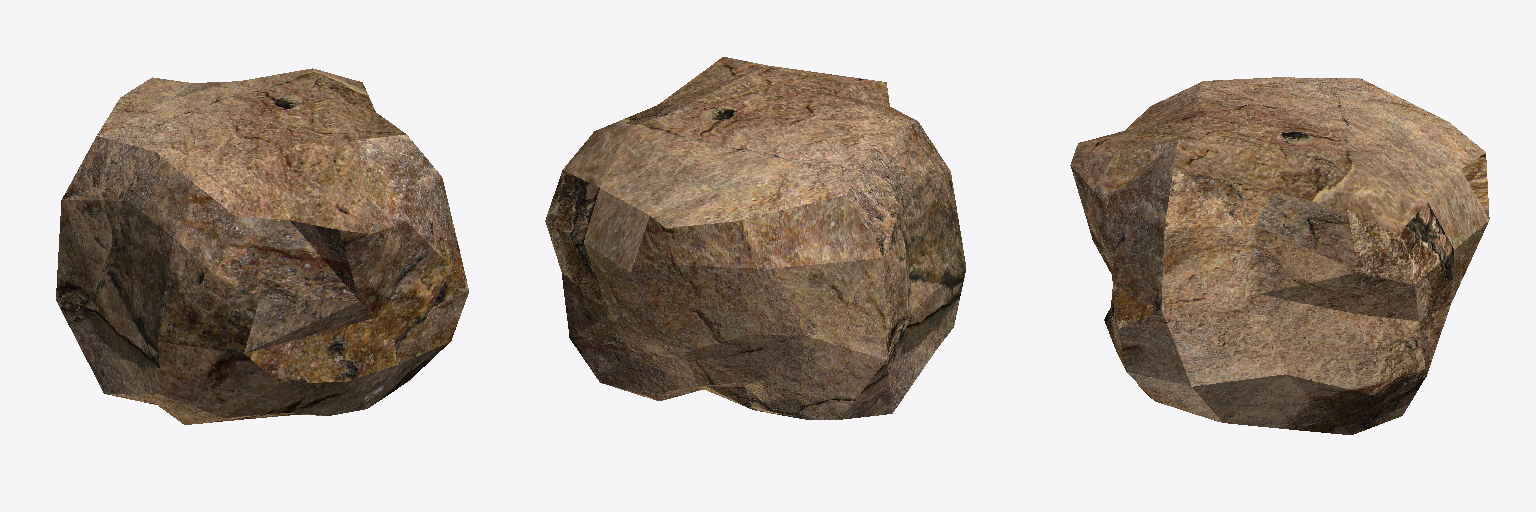
3 renders of one model, left to right at view 1: azimuth 30°, elevation 25°; view 2: azimuth 150°, elevation 25°; view 3: azimuth 270°, elevation 25°, orthographic.
Parts seen in each view (by area): view 1: Cube.002; view 2: Cube.002; view 3: Cube.002.
Part boxes in pixels (left/top/right/bottom): Cube.002: left=56, top=68, right=468, bottom=424; Cube.002: left=545, top=57, right=965, bottom=419; Cube.002: left=1070, top=77, right=1489, bottom=434.
Bounding box in the file's own units: 3.18 × 2.69 × 3.63.
1 materials, 1 textured.